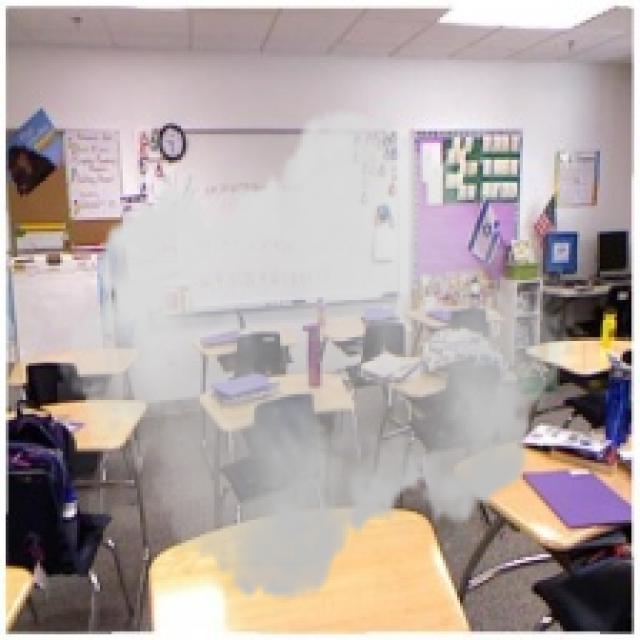smoke: (57, 89, 574, 620)
